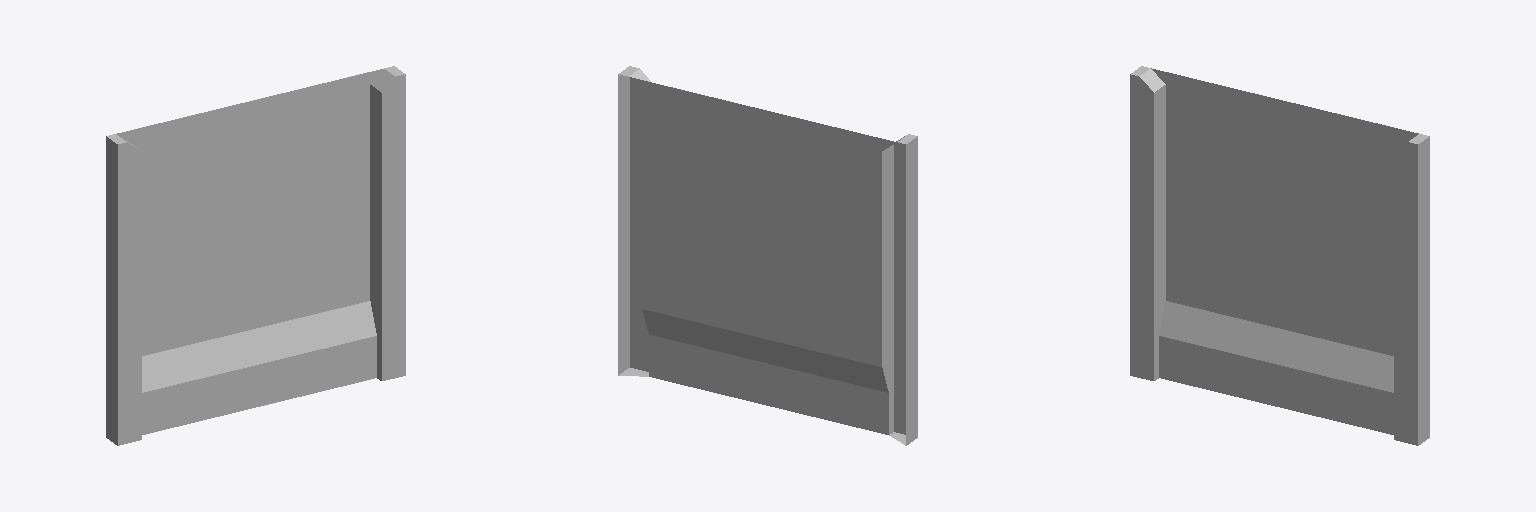
Rendered from Wall Panel 3.obj.
3 views of the same model, side by side, from view 1: azimuth 30°, elevation 25°; view 2: azimuth 150°, elevation 25°; view 3: azimuth 330°, elevation 25° (orthographic).
Parts seen in each view (by area): view 1: Plane; view 2: Plane; view 3: Plane.
Boxes of the visible parts, x1=… form: Plane: x1=106, y1=66, x2=405, y2=445; Plane: x1=618, y1=66, x2=917, y2=445; Plane: x1=1130, y1=66, x2=1429, y2=445.
Size of the model in its own units: 6 by 6 by 0.4093.